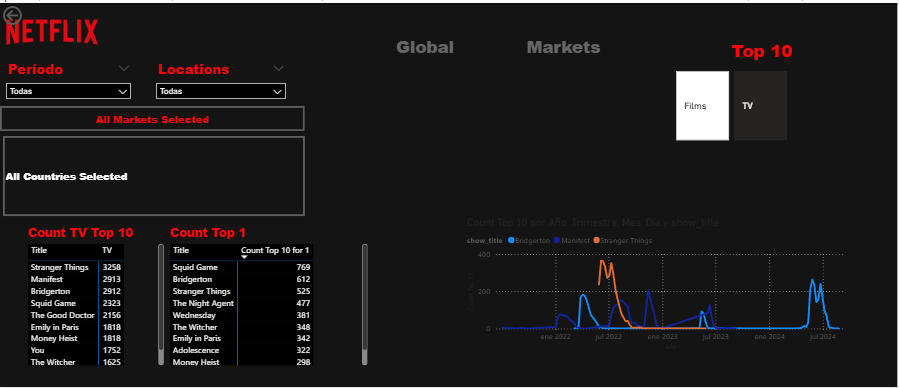

This screenshot's page, from the dashboard's own definition file:
{"tool":"powerbi","page":{"name":"Top 10","canvas":[1440,616],"ordinal":3},"visuals":[{"type":"image","box":[0,0,167.2,92.9],"z":0},{"type":"actionButton","box":[572.9,46.5,218.3,40.3],"z":1000},{"type":"slicer","title":"Period","fields":{"Values":["00_calendar.year"]},"box":[0,86.7,219.9,79],"z":2000},{"type":"actionButton","box":[824.7,46,158.6,39.6],"z":3000},{"type":"actionButton","box":[1156.1,52.3,134.8,39.6],"z":4000},{"type":"slicer","title":"Period","fields":{"Values":["dim_location.market"]},"box":[241.5,86.7,227.6,72.8],"z":5000},{"type":"actionButton","box":[0,165.7,489.3,40.3],"z":6000},{"type":"actionButton","box":[4.6,213.7,484.6,128.5],"z":7000},{"type":"advancedSlicerVisual","fields":{"Values":["dim_category.category_group"]},"box":[1080.9,105,283.6,121.5],"z":9000},{"type":"pivotTable","title":"Count TV Top 10","fields":{"Values":["metricas 1.Count Top 10 for 1"],"Rows":["dim_category.show_title"],"Columns":["dim_category.category_group"]},"box":[39.6,354.6,227.8,231.7],"z":10000},{"type":"actionButton","box":[0,0,100,40],"z":11000},{"type":"pivotTable","title":"Count Top 1","fields":{"Rows":["dim_category.show_title"],"Values":["metricas 1.Count Top 10 for 1"]},"box":[267.4,354.6,326.8,231.7],"z":12000},{"type":"lineChart","fields":{"Y":["metricas 1.Count Top 10"],"Category":["00_calendar.week.Variación.Jerarquía de fechas.Año","00_calendar.week.Variación.Jerarquía de fechas.Trimestre","00_calendar.week.Variación.Jerarquía de fechas.Mes","00_calendar.week.Variación.Jerarquía de fechas.Día"],"Series":["dim_category.show_title"]},"box":[744.8,342.7,627.9,219.9],"z":12001}]}

Visuals, with their boxes in screenshot pixels (x1, y1, x2, y2), scaled from the page's 1440x616 canvas onto the 899x388 screenshot:
image: <bbox>0, 0, 104, 59</bbox>
actionButton: <bbox>358, 29, 494, 55</bbox>
"Period" slicer: <bbox>0, 55, 137, 104</bbox>
actionButton: <bbox>515, 29, 614, 54</bbox>
actionButton: <bbox>722, 33, 806, 58</bbox>
"Period" slicer: <bbox>151, 55, 293, 100</bbox>
actionButton: <bbox>0, 104, 305, 130</bbox>
actionButton: <bbox>3, 135, 305, 216</bbox>
advancedSlicerVisual - dim_category.category_group: <bbox>675, 66, 852, 143</bbox>
"Count TV Top 10" pivotTable: <bbox>25, 223, 167, 369</bbox>
actionButton: <bbox>0, 0, 62, 25</bbox>
"Count Top 1" pivotTable: <bbox>167, 223, 371, 369</bbox>
lineChart - metricas 1.Count Top 10 x 00_calendar.week.Variación.Jerarquía de fechas.Año: <bbox>465, 216, 857, 354</bbox>
